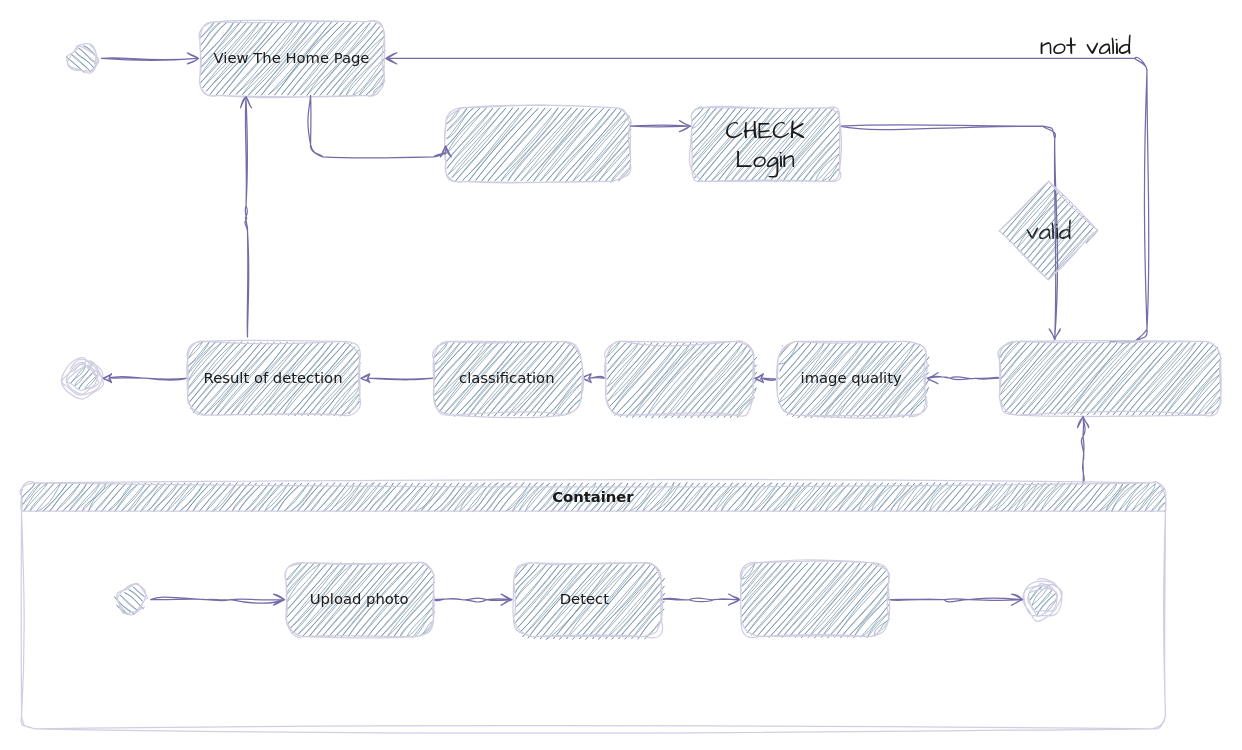
The diagram is 1242 pixels wide and 750 high, and some of its shapes have lost their labels. Each missing label, with the centre of its shape:
preprocessing: point 1109,377
store Data: point 814,599
threshold: point 679,377
upload Photo for detection: point 537,143
